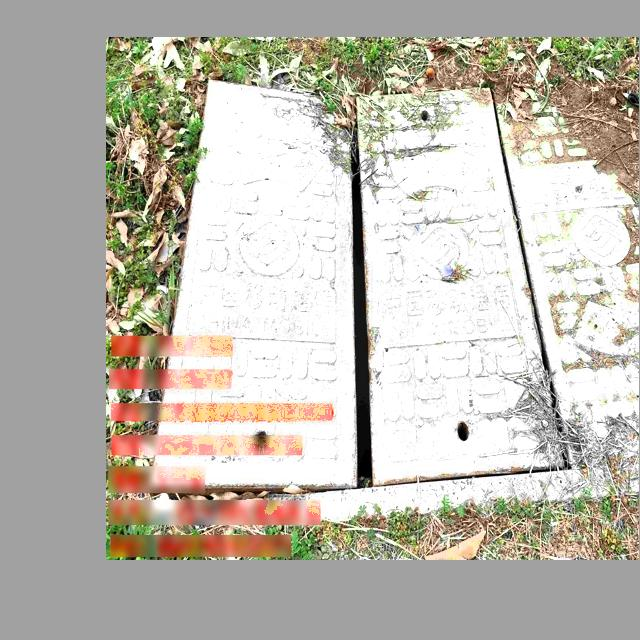uncovered: (161, 65, 517, 484)
